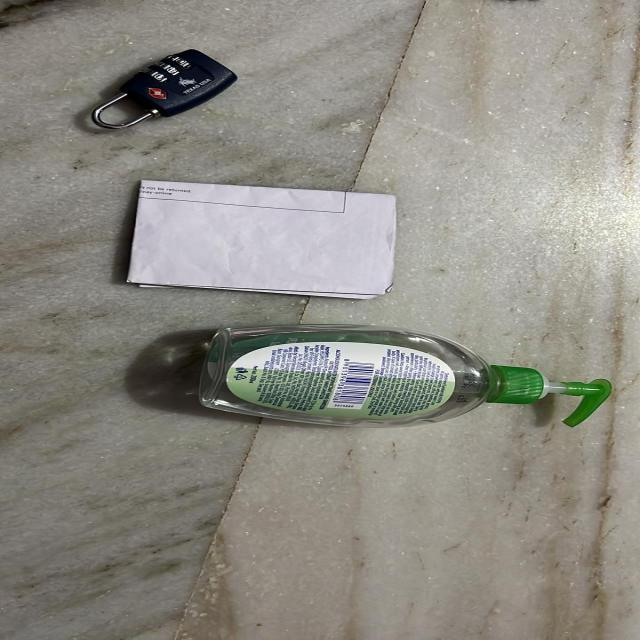paper: (94, 173, 422, 318)
plastic: (167, 325, 638, 446), (60, 44, 243, 144)
